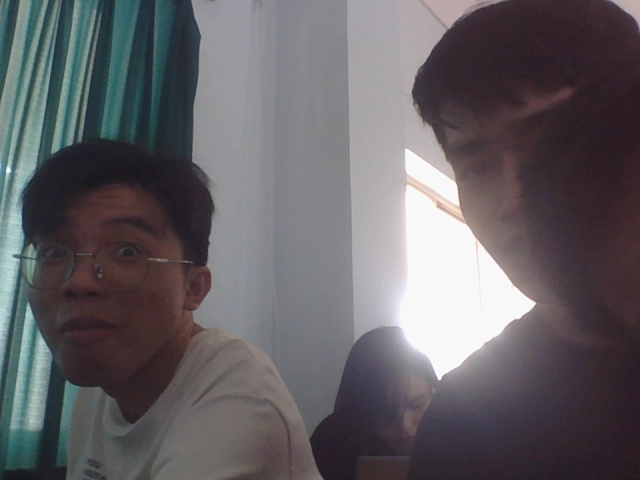real: (20, 123, 208, 389)
